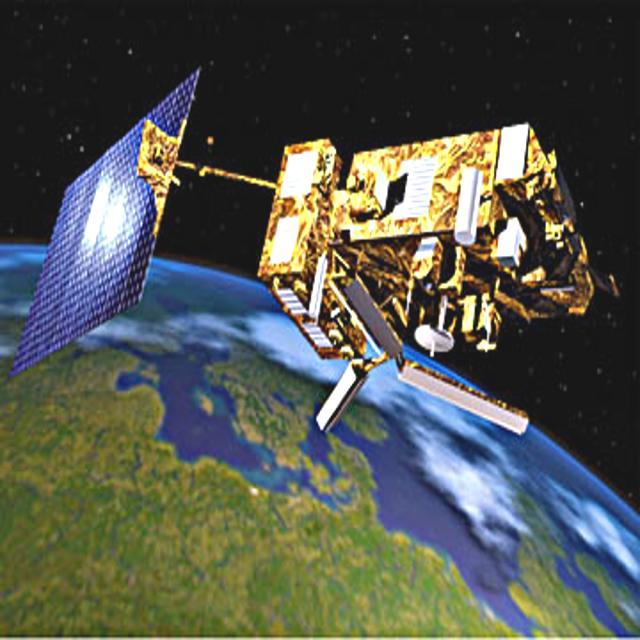satellite: (12, 67, 598, 430)
